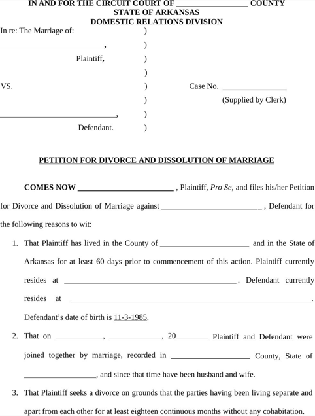textline: (70, 292, 313, 303), (62, 275, 237, 286), (1, 108, 119, 118), (76, 182, 175, 193), (159, 201, 264, 211), (158, 238, 252, 248), (1, 41, 107, 49), (222, 82, 288, 92), (169, 352, 251, 360), (22, 372, 98, 379), (175, 1, 250, 8), (108, 332, 164, 341), (54, 333, 103, 341), (176, 332, 209, 341)
